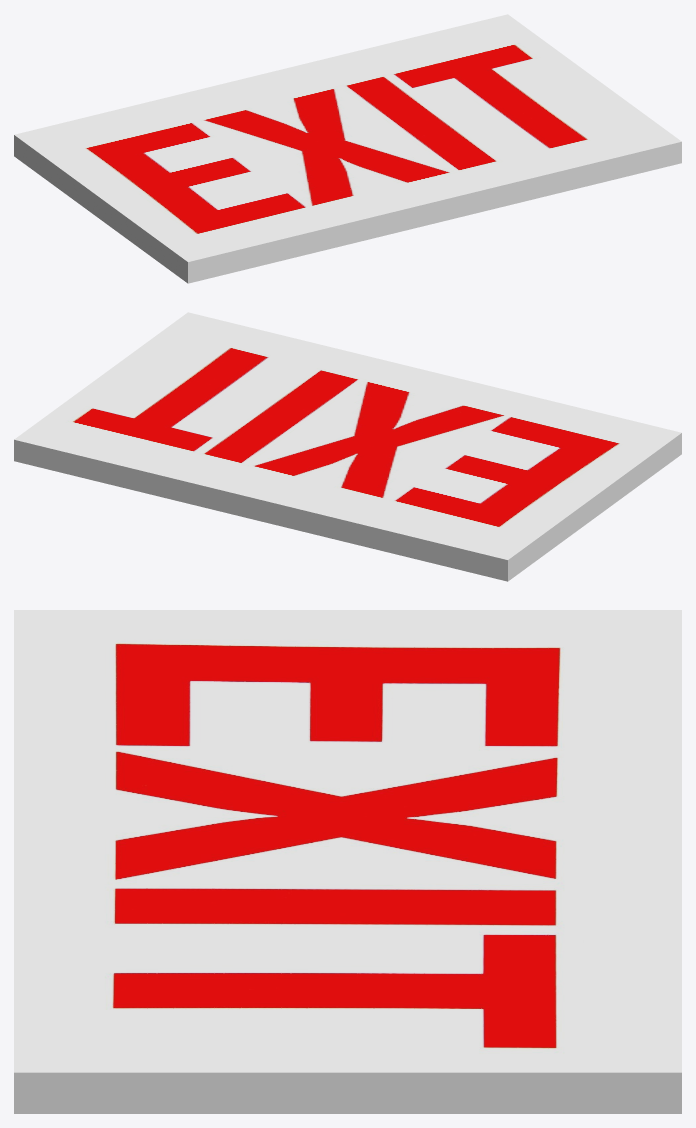
The model's file is exit.fbx.
3 views of the same model, one above another, from view 1: azimuth 30°, elevation 25°; view 2: azimuth 150°, elevation 25°; view 3: azimuth 270°, elevation 25° (orthographic). The views are drawn at different scales.
Visible parts, largest first — view 1: pPlane1; view 2: pPlane1; view 3: pPlane1.
Boxes of the visible parts, x1=… form: pPlane1: x1=14, y1=14, x2=681, y2=283; pPlane1: x1=14, y1=312, x2=681, y2=581; pPlane1: x1=14, y1=610, x2=681, y2=1113.
Size of the model in its own units: 25.82 by 1.07 by 15.76.
Materials: 1 (1 with a texture image).
